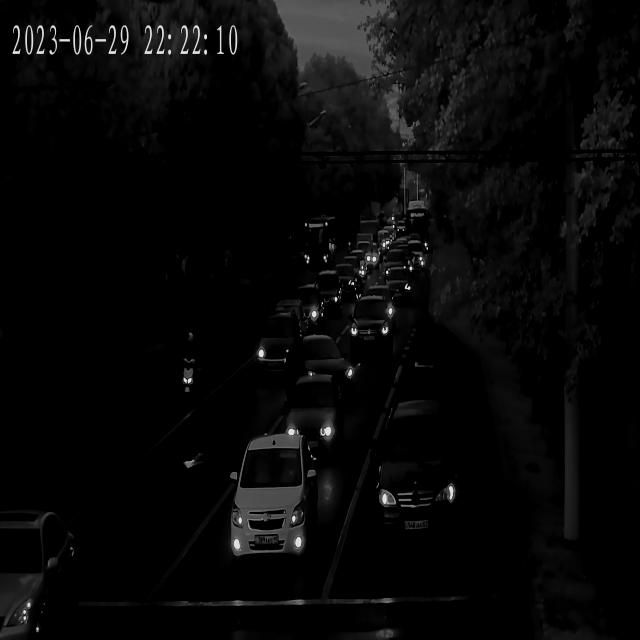Bus: (304, 218, 340, 266), (404, 206, 431, 254)
Car: (371, 398, 464, 535), (230, 432, 320, 569), (0, 510, 86, 640), (280, 377, 346, 464), (285, 334, 357, 410), (250, 317, 312, 381), (345, 296, 394, 348), (281, 285, 325, 331), (302, 272, 344, 315), (324, 264, 361, 298), (380, 272, 413, 307), (358, 288, 396, 317), (336, 257, 366, 282), (382, 251, 411, 275), (350, 244, 377, 268), (399, 240, 425, 260), (374, 232, 394, 250)
Motorcycle: (172, 326, 205, 404)
